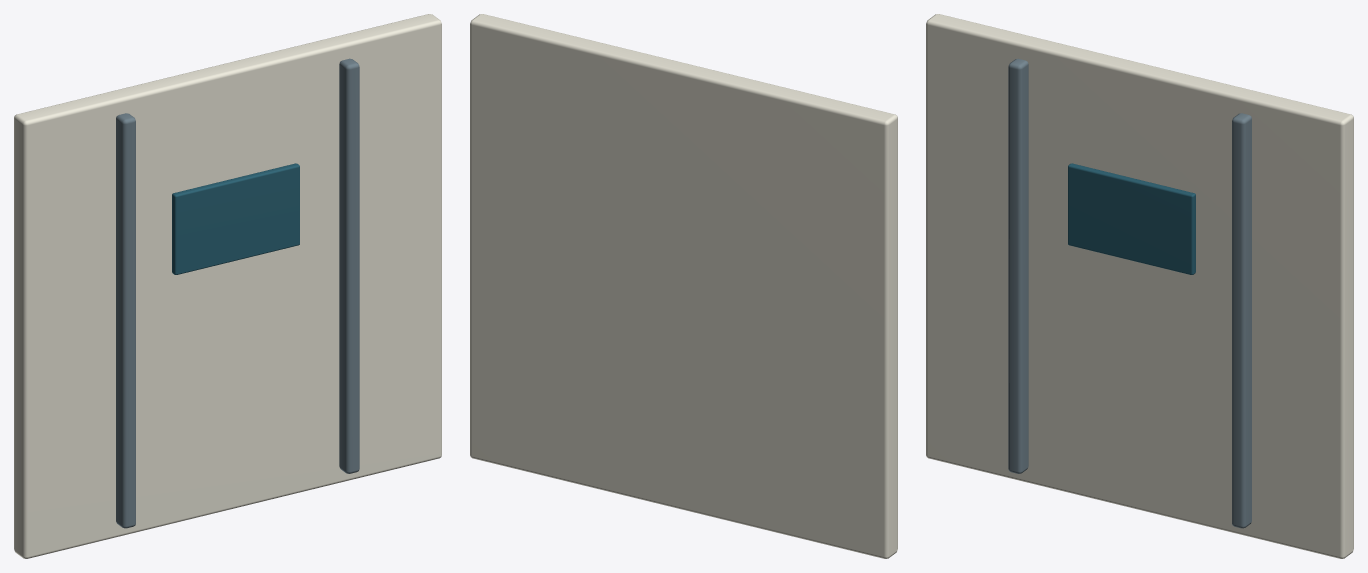
The model's file is SM_FE_Door.fbx.
3 renders of one model, left to right at view 1: azimuth 30°, elevation 25°; view 2: azimuth 150°, elevation 25°; view 3: azimuth 330°, elevation 25°, orthographic.
Parts seen in each view (by area): view 1: SM_FE_Door; view 2: SM_FE_Door; view 3: SM_FE_Door.
Boxes of the visible parts, x1,y1,x2,y2 form: SM_FE_Door: [14, 14, 441, 558]; SM_FE_Door: [470, 14, 897, 558]; SM_FE_Door: [926, 14, 1353, 558].
Bounding box in the file's own units: 300 × 25.5 × 300.
